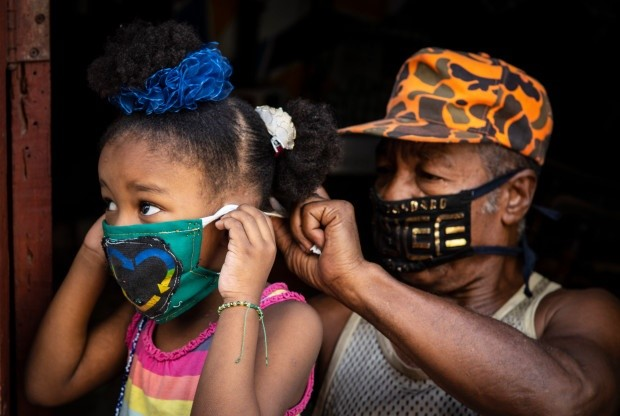face_with_mask: (94, 46, 309, 327), (364, 46, 550, 295)
